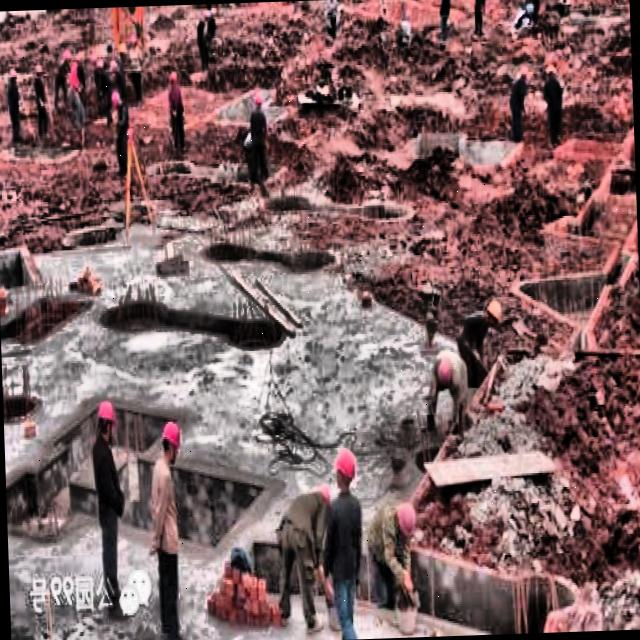helmet: (92, 396, 120, 446), (158, 418, 186, 464), (432, 354, 456, 404), (332, 444, 356, 492), (391, 500, 417, 539), (484, 294, 504, 332)
